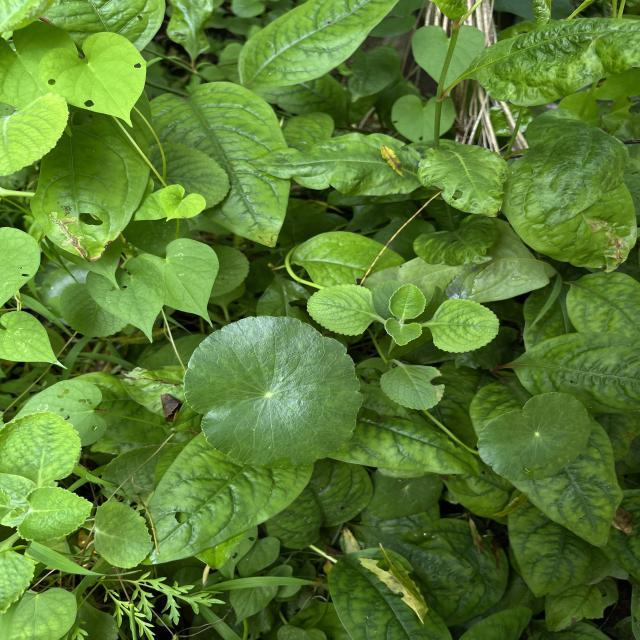Bacopa monnieri: (182, 313, 365, 472), (473, 390, 593, 483)
